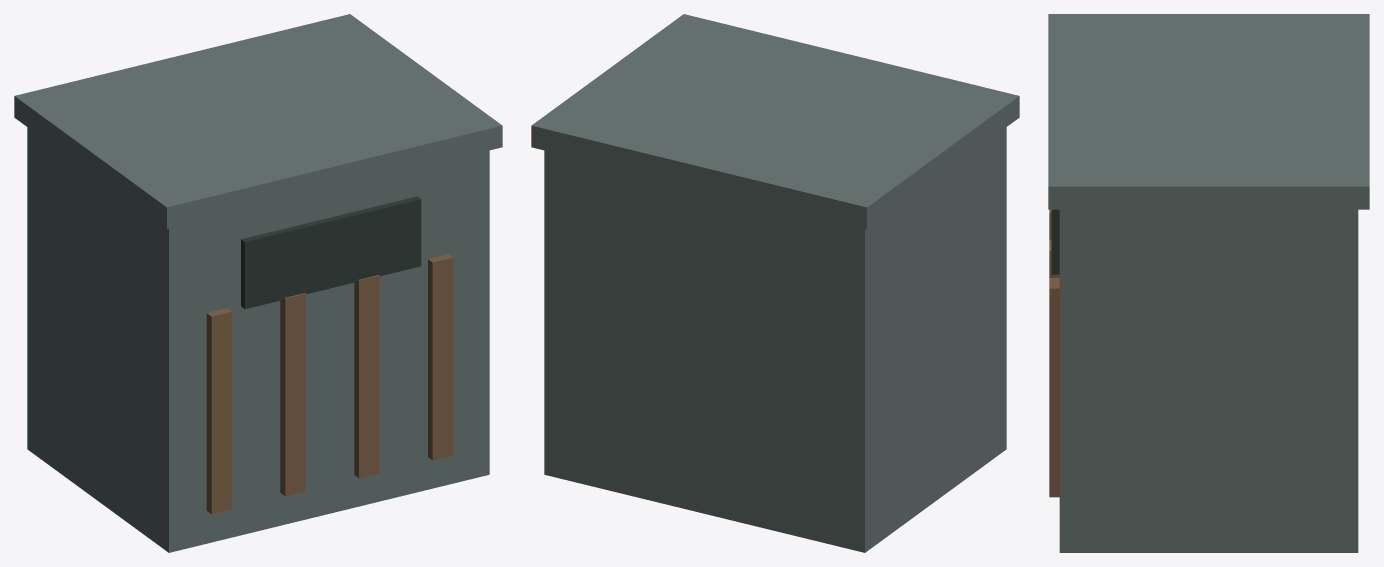
3 renders of one model, left to right at view 1: azimuth 30°, elevation 25°; view 2: azimuth 150°, elevation 25°; view 3: azimuth 270°, elevation 25°, orthographic. The views are drawn at different scales.
Parts seen in each view (by area): view 1: climb-bin-1-0, climb-bin-1-1, 쓰레기통 02; view 2: climb-bin-1-0, climb-bin-1-1; view 3: climb-bin-1-0, climb-bin-1-1, 쓰레기통 02.
Boxes of the visible parts, <box> form: climb-bin-1-0: <box>27,127,489,552</box>; climb-bin-1-1: <box>14,14,502,228</box>; 쓰레기통 02: <box>206,196,453,514</box>; climb-bin-1-0: <box>544,127,1006,552</box>; climb-bin-1-1: <box>531,14,1019,228</box>; climb-bin-1-0: <box>1059,209,1358,552</box>; climb-bin-1-1: <box>1048,14,1369,209</box>; 쓰레기통 02: <box>1049,209,1059,497</box>.
Bounding box in the file's own units: 0.89 × 0.89 × 0.7.
